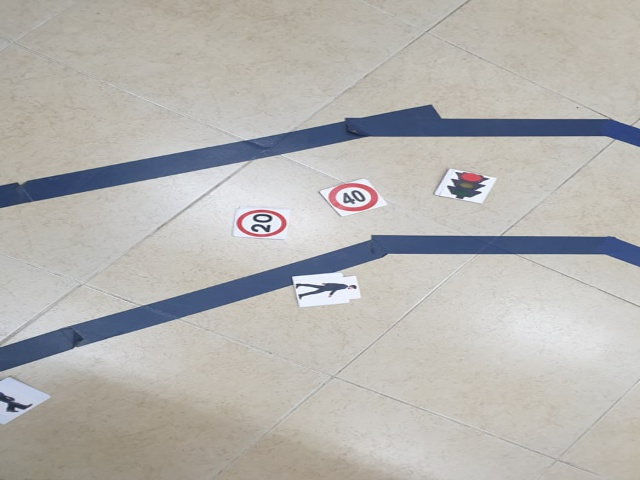Limit 20: (235, 210, 290, 239)
Limit 40: (328, 184, 381, 212)
Person: (296, 277, 358, 302)
Red: (449, 169, 487, 202)
